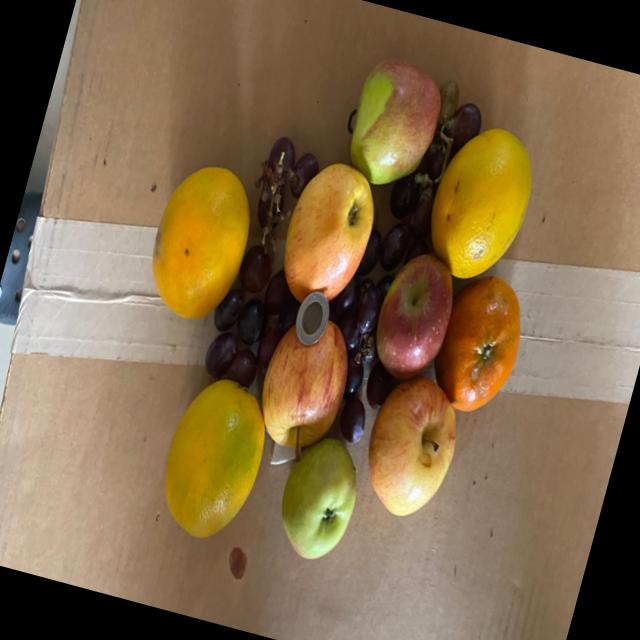moneda: (288, 290, 333, 347)
